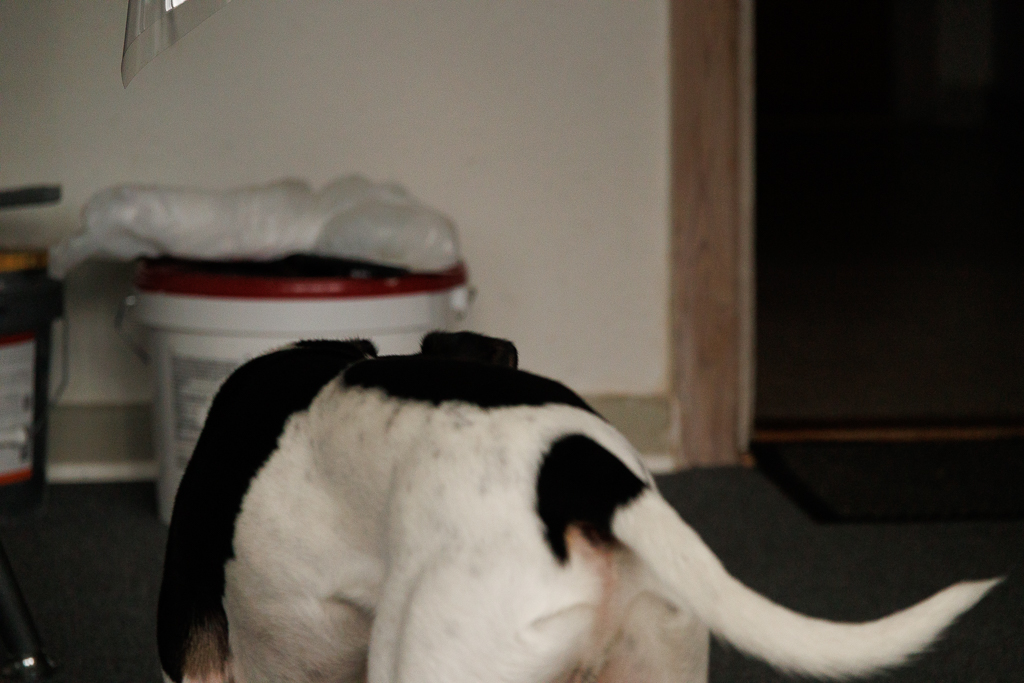Dog: (146, 322, 1016, 683)
